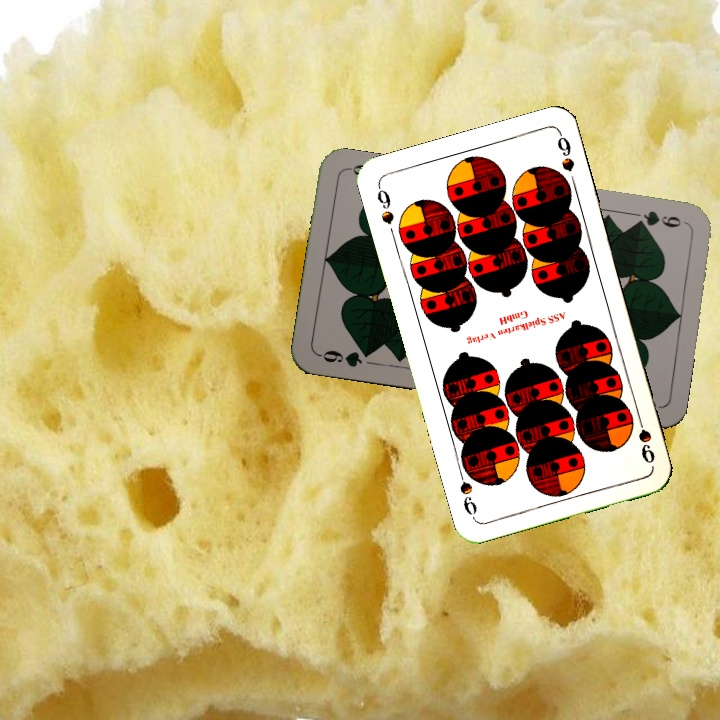G9: (315, 345, 375, 370), (631, 206, 684, 231)
S9: (632, 409, 658, 467), (373, 181, 397, 228)
